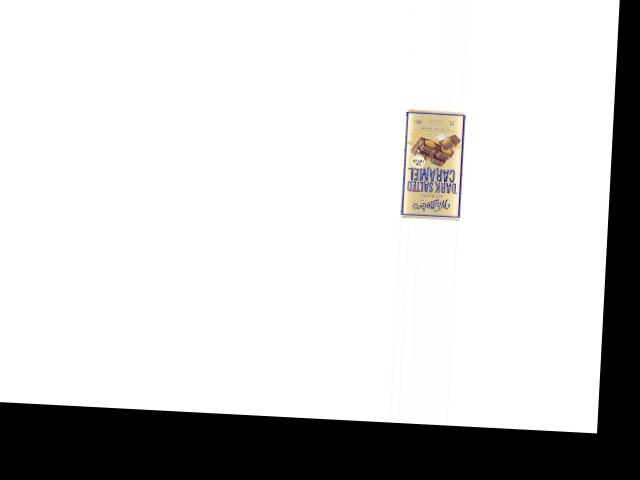chocolate: (395, 106, 467, 219)
